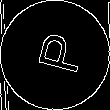P_W: (26, 31, 84, 79)
